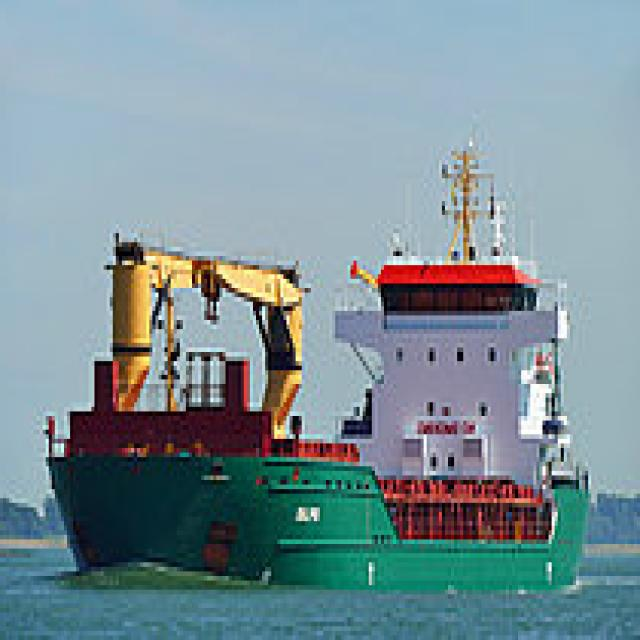Cargo: (43, 133, 597, 594)
